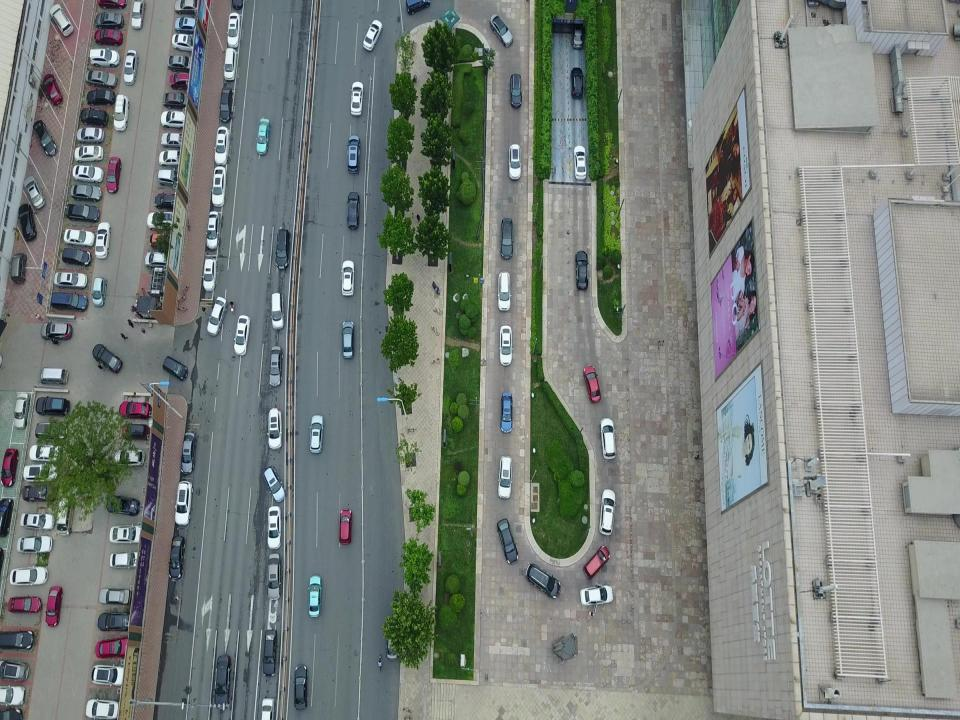car: (524, 562, 562, 602), (495, 519, 519, 566), (32, 119, 59, 159), (91, 342, 123, 375), (582, 546, 612, 579), (262, 465, 286, 504), (48, 3, 74, 39), (489, 14, 516, 48), (212, 655, 229, 709), (96, 637, 134, 661), (173, 480, 193, 525), (91, 663, 130, 686), (579, 585, 614, 610), (103, 493, 141, 516), (84, 697, 122, 720), (598, 488, 616, 536), (40, 72, 64, 108), (50, 291, 88, 312), (22, 177, 46, 210), (17, 204, 37, 243), (598, 417, 616, 460), (262, 628, 278, 676), (0, 658, 32, 682), (362, 17, 382, 55), (207, 298, 226, 338), (9, 567, 47, 587), (1, 448, 20, 488), (45, 585, 63, 627), (17, 536, 53, 557), (40, 321, 74, 343), (71, 163, 105, 185), (169, 535, 185, 581), (88, 46, 120, 69), (20, 512, 55, 533), (83, 68, 119, 88), (98, 612, 132, 633), (498, 390, 514, 434), (498, 456, 514, 500), (266, 407, 282, 451), (266, 505, 282, 549), (582, 364, 600, 403), (112, 95, 130, 134), (1, 630, 34, 651), (308, 413, 324, 456), (35, 397, 71, 416), (23, 465, 59, 484), (496, 270, 512, 312), (214, 125, 230, 167), (109, 525, 142, 545), (70, 182, 103, 202), (93, 27, 123, 49), (255, 117, 271, 158), (234, 315, 250, 356), (162, 356, 188, 381), (34, 422, 70, 440), (118, 399, 152, 418), (98, 587, 132, 606), (54, 270, 88, 289), (66, 203, 100, 222), (95, 221, 111, 261), (9, 253, 29, 285), (63, 227, 95, 247), (276, 227, 290, 272), (86, 88, 116, 109), (267, 554, 280, 602), (105, 155, 121, 194), (14, 391, 30, 430), (39, 366, 70, 386), (73, 144, 104, 164), (182, 430, 196, 474), (211, 165, 225, 209), (8, 596, 42, 614), (384, 623, 400, 661), (21, 485, 59, 501), (114, 449, 146, 468), (148, 212, 180, 231), (500, 217, 514, 260), (293, 667, 307, 710), (121, 421, 151, 441), (79, 108, 109, 128), (94, 11, 124, 31), (309, 573, 322, 619), (205, 212, 221, 249), (575, 249, 589, 291), (341, 320, 355, 362), (0, 496, 14, 538), (500, 325, 514, 366), (347, 134, 361, 175), (160, 110, 190, 129), (0, 686, 28, 706), (171, 31, 199, 51), (109, 552, 140, 570), (338, 508, 352, 546), (218, 85, 232, 123), (227, 11, 241, 49), (569, 67, 585, 100), (350, 80, 364, 117), (270, 345, 282, 388), (30, 445, 62, 461), (61, 248, 91, 265), (271, 292, 284, 331), (341, 259, 355, 295), (348, 192, 360, 232), (75, 127, 105, 143), (150, 232, 180, 248), (573, 146, 587, 180), (167, 54, 195, 71), (509, 143, 521, 182), (203, 258, 217, 291), (92, 276, 106, 309), (164, 92, 191, 109), (170, 70, 194, 89), (125, 51, 138, 86), (404, 0, 432, 16), (510, 74, 523, 108), (222, 49, 236, 80), (155, 193, 182, 209), (146, 251, 174, 266), (159, 149, 185, 165), (160, 133, 187, 148), (131, 0, 144, 30), (174, 17, 200, 31), (260, 697, 274, 720), (174, 1, 200, 13), (570, 27, 584, 49)
van: (158, 169, 183, 186)
